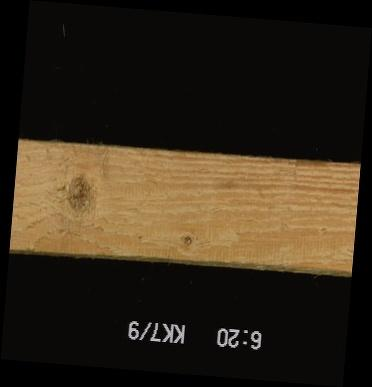small_knot: (177, 230, 196, 250)
sound_knot: (61, 170, 97, 219)
